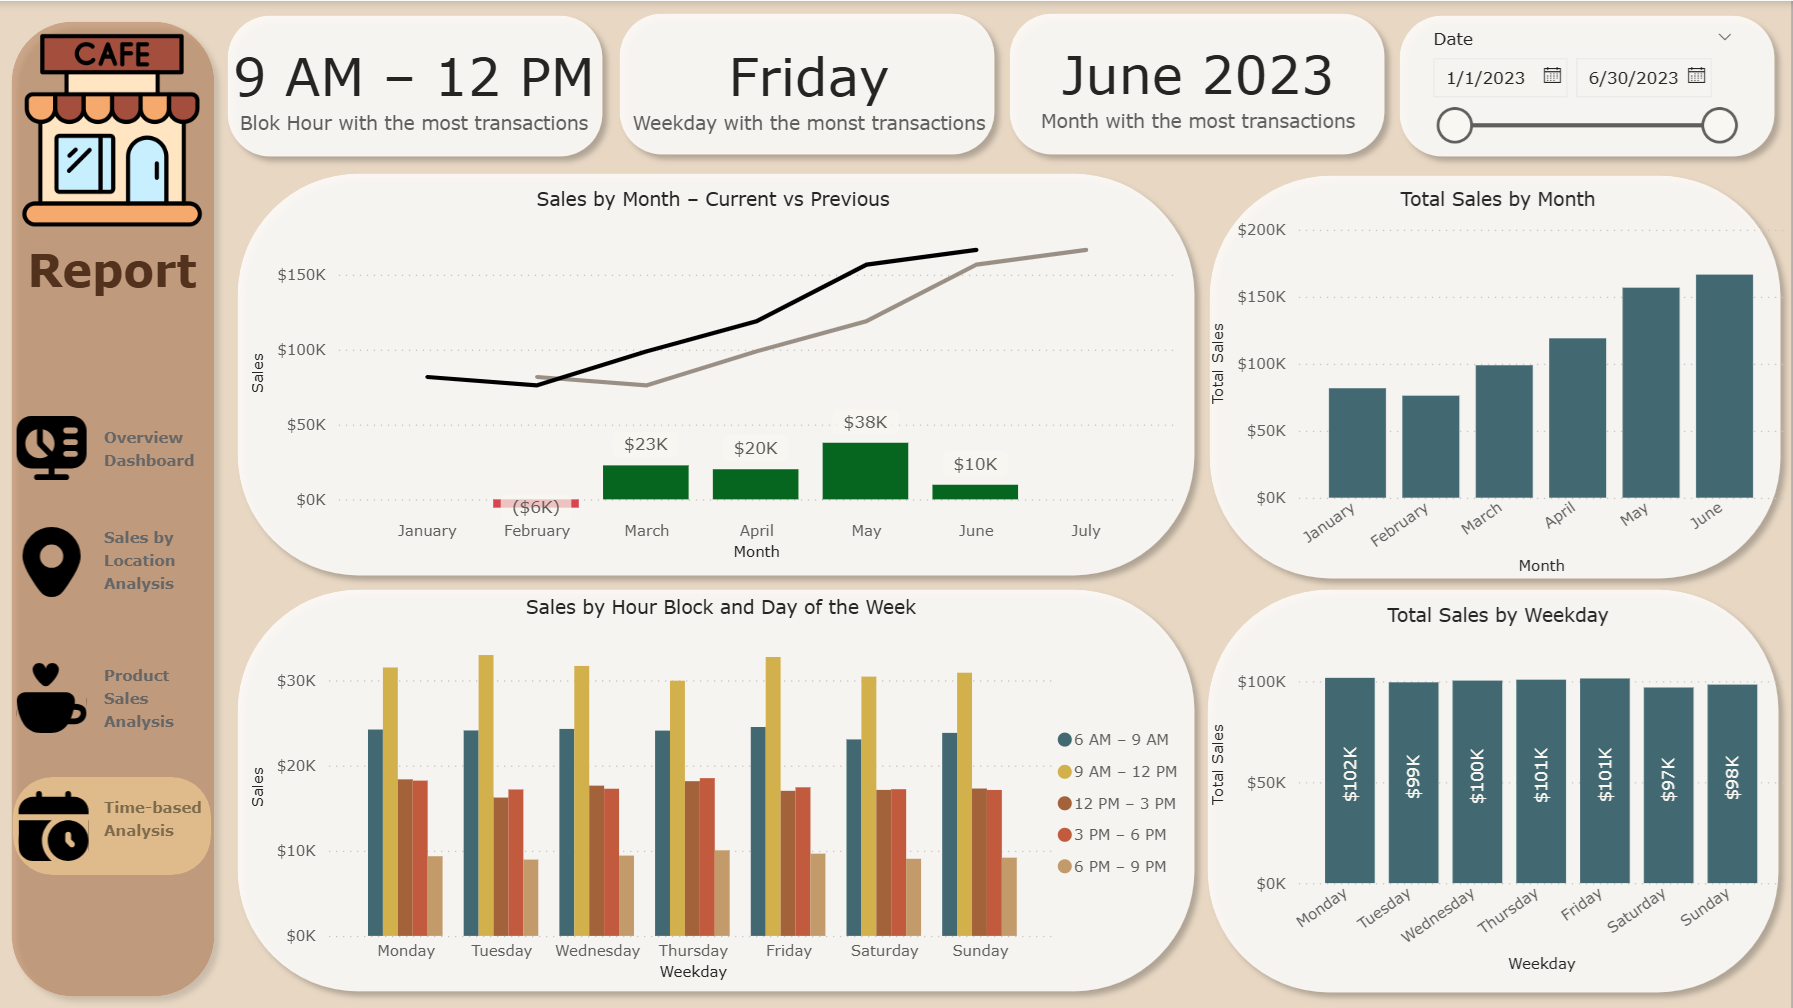

The page's visual inventory and layout, read from the dashboard file:
{"tool":"powerbi","page":{"name":"Sales Trends","canvas":[1280,720],"ordinal":4},"visuals":[{"type":"shape","box":[855.7,115.7,425.7,305.7],"z":0},{"type":"shape","box":[854.3,411.4,425.7,305.7],"z":1000},{"type":"shape","box":[161.4,114.3,701.4,305],"z":2000},{"type":"shape","box":[161.4,411.4,701.4,305],"z":3000},{"type":"shape","box":[992.1,0.7,285.7,118.6],"z":4000},{"type":"shape","box":[712.1,0,285.7,118.6],"z":5000},{"type":"shape","box":[434.3,0,285.7,118.6],"z":6000},{"type":"shape","box":[154.3,1.4,285.7,118.6],"z":7000},{"type":"slicer","fields":{"Values":["Transactions.transaction_date"]},"box":[1011.4,14.3,238.6,94.3],"z":8000},{"type":"clusteredColumnChart","title":"Sales by Hour Block and Day of the Week","fields":{"Y":["Sum(Transactions.total_sales)"],"Category":["Transactions.day_name"],"Series":["Transactions.hour_block"]},"box":[175.7,424.3,680,280],"z":9000},{"type":"lineClusteredColumnComboChart","title":"Sales by Month – Current vs Previous","fields":{"Category":["Calendar.Date.Variation.Date Hierarchy.Month"],"Y2":["Transactions.previous_month","Transactions.Całkowita Sprzedaż"],"Y":["Transactions.Różnica Sprzedaż MoM"]},"box":[175.7,132.9,668.6,271.4],"z":10000},{"type":"columnChart","fields":{"Y":["Sum(Transactions.total_sales)"],"Category":["Calendar.Date.Variation.Date Hierarchy.Month"]},"box":[861.4,132.9,418.6,281.4],"z":11000},{"type":"columnChart","fields":{"Category":["Transactions.day_name"],"Y":["Sum(Transactions.total_sales)"]},"box":[861.4,430,418.6,268.6],"z":12000},{"type":"card","title":"Weekday with the most transactions","fields":{"Values":["Transactions.Dzień z Największą Liczbą Transakcji"]},"box":[440,18.6,277.1,85.7],"z":13000},{"type":"card","fields":{"Values":["Transactions.Blok Godzin z Największą Liczbą Transakcji"]},"box":[151.4,18.6,290,85.7],"z":14000},{"type":"card","fields":{"Values":["Transactions.Miesiąc z Największym Przychodem"]},"box":[730,17.1,252.9,85.7],"z":15000},{"type":"shape","box":[0,5.7,162.9,714.3],"z":16000},{"type":"textbox","box":[70,297.1,84.3,47.1],"z":17000},{"type":"textbox","box":[70,368.6,80,84.3],"z":18000},{"type":"textbox","box":[70,467.1,85.7,67.1],"z":19000},{"type":"textbox","box":[70,561.4,88.6,55.7],"z":20000},{"type":"actionButton","box":[10,554.3,141.4,70],"z":21000},{"type":"actionButton","box":[8.6,463.3,141.4,70],"z":22000},{"type":"actionButton","box":[8.6,366.1,141.4,70],"z":23000},{"type":"actionButton","box":[8.6,284.7,141.4,70],"z":24000},{"type":"image","box":[5.7,17.1,150,150],"z":25000},{"type":"textbox","box":[10,167.1,141.4,81.4],"z":26000}]}

Visuals, with their boxes in screenshot pixels (x1, y1, x2, y2), scaled from the page's 1280x720 canvas onto the 1793x1008 screenshot:
shape: [1199, 162, 1792, 590]
shape: [1197, 576, 1792, 1004]
shape: [226, 160, 1209, 587]
shape: [226, 576, 1209, 1003]
shape: [1390, 1, 1790, 167]
shape: [997, 0, 1398, 166]
shape: [608, 0, 1009, 166]
shape: [216, 2, 616, 168]
slicer - Transactions.transaction_date: [1417, 20, 1751, 152]
"Sales by Hour Block and Day of the Week" clusteredColumnChart: [246, 594, 1199, 986]
"Sales by Month – Current vs Previous" lineClusteredColumnComboChart: [246, 186, 1183, 566]
columnChart - Sum(Transactions.total_sales) x Calendar.Date.Variation.Date Hierarchy.Month: [1207, 186, 1792, 580]
columnChart - Transactions.day_name x Sum(Transactions.total_sales): [1207, 602, 1792, 978]
"Weekday with the most transactions" card: [616, 26, 1005, 146]
card - Transactions.Blok Godzin z Największą Liczbą Transakcji: [212, 26, 618, 146]
card - Transactions.Miesiąc z Największym Przychodem: [1023, 24, 1377, 144]
shape: [0, 8, 228, 1007]
textbox: [98, 416, 216, 482]
textbox: [98, 516, 210, 634]
textbox: [98, 654, 218, 748]
textbox: [98, 786, 222, 864]
actionButton: [14, 776, 212, 874]
actionButton: [12, 649, 210, 747]
actionButton: [12, 513, 210, 611]
actionButton: [12, 399, 210, 497]
image: [8, 24, 218, 234]
textbox: [14, 234, 212, 348]
